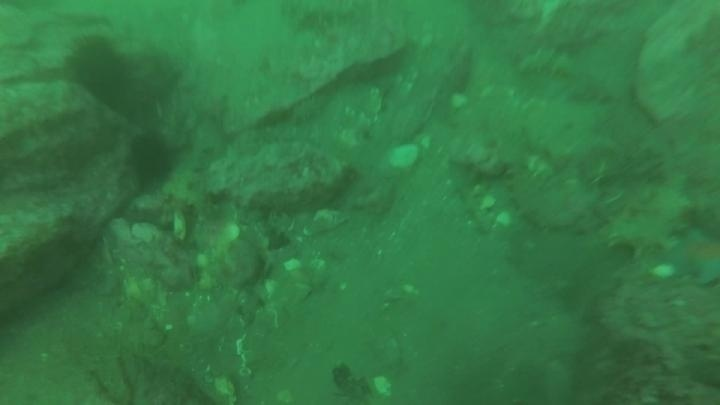echinus: (63, 34, 134, 106), (125, 130, 176, 188)
holothurian: (600, 171, 695, 258), (514, 46, 580, 81)
starfish: (662, 225, 720, 289)
